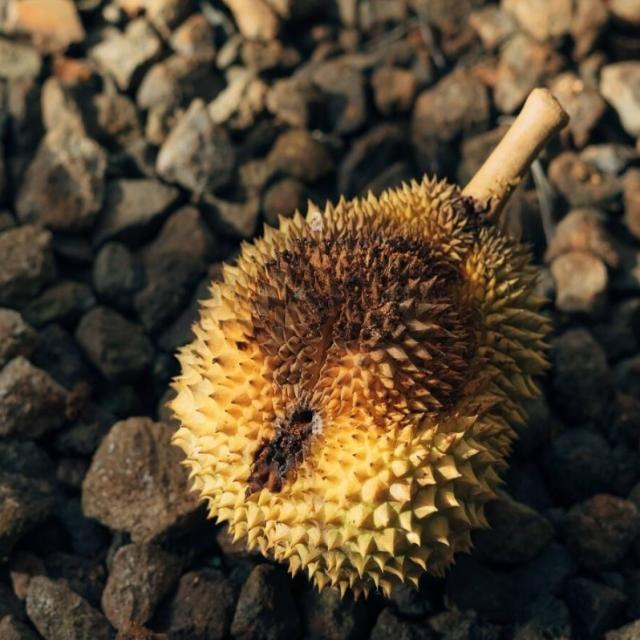defective: (162, 170, 552, 599)
